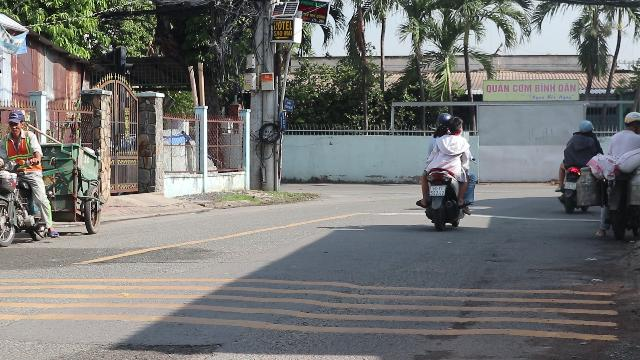helmet: (434, 112, 452, 132), (623, 111, 639, 131)
motorcyclist: (0, 109, 56, 248), (416, 111, 476, 229), (602, 110, 640, 240)
nohelmet: (7, 110, 25, 134), (448, 116, 464, 136), (430, 185, 444, 195)
